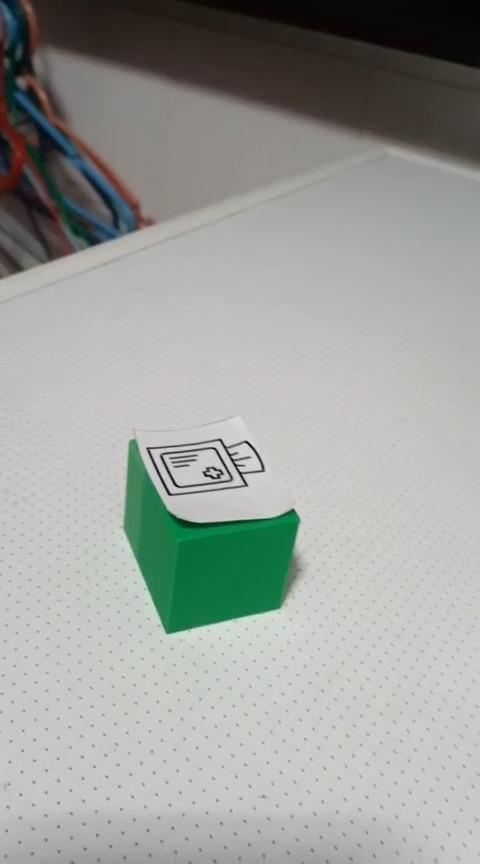Gauze: (121, 414, 301, 634)
